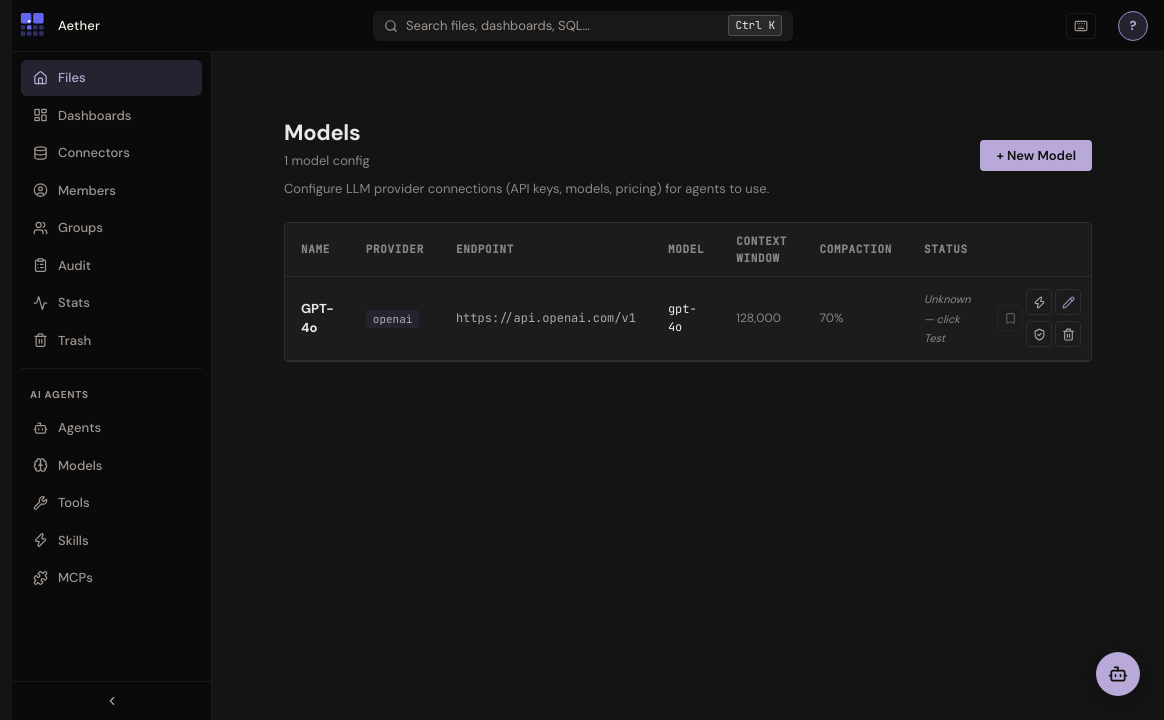
Test: ModelsPage › tests a model config from the row action
This screenshot has width=1164, height=720.
Expected: the text "GPT-4o" is shown, [301,300,334,336]
Click the button named "Test model config". click: (1039,302)
box: [1026,289,1052,315]
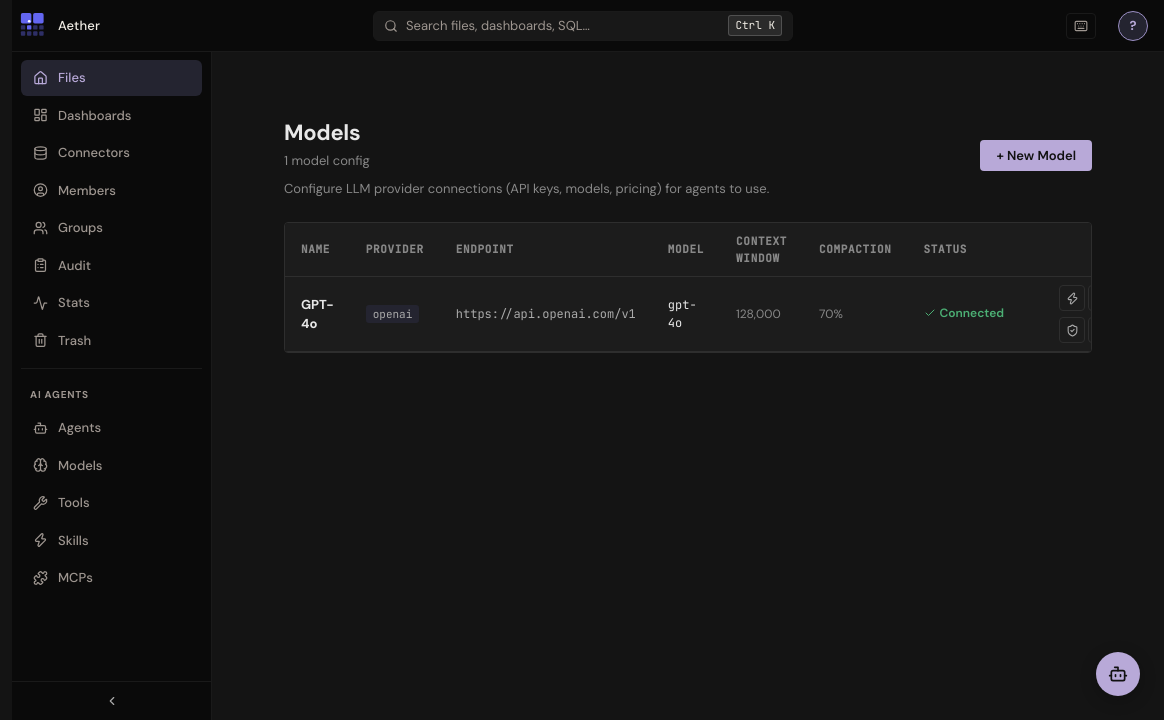
Expected: the text "Connected" is shown, [924,304,1004,322]
